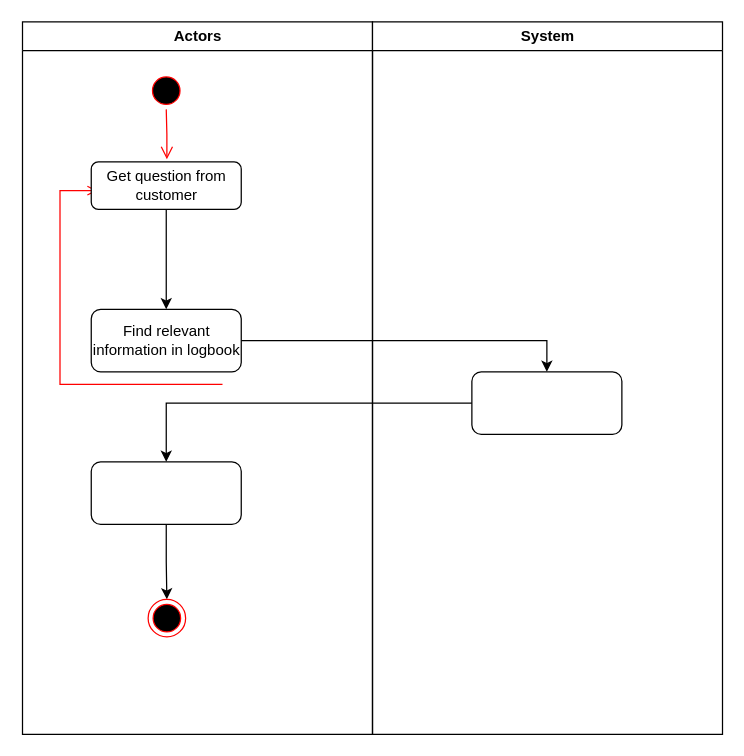
This 744x756 diagram has some shape labels left out. Each missing label, with the centre of its shape:
"Give information" goes at point 165,492.
"Show relevant information" goes at point 546,402.
